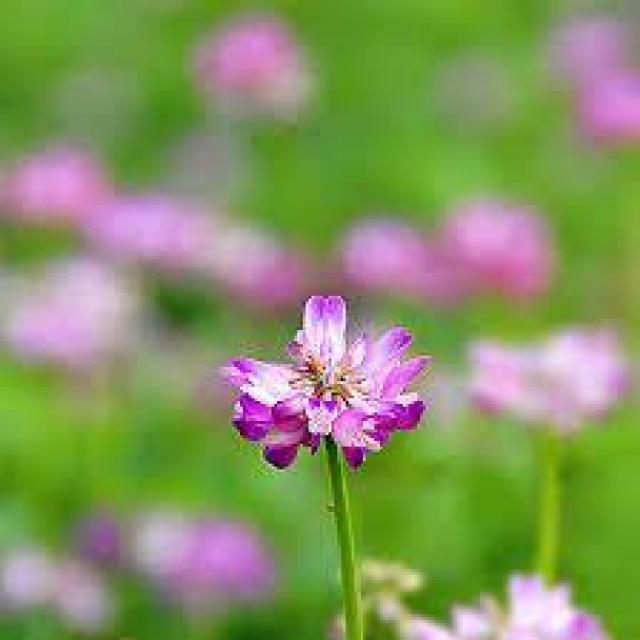organic waste: (220, 279, 420, 475)
